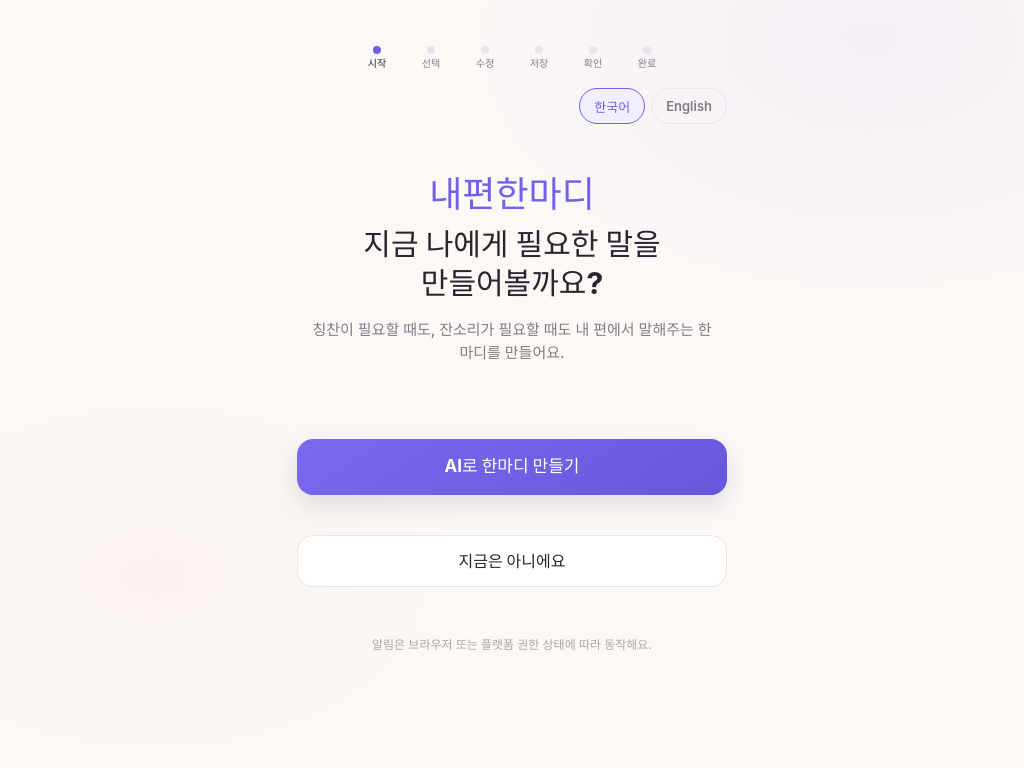
칭찬해줘 v0.4 home + check-in flow › lets the user write a direct line without AI generation and blocks unsafe direct copy
Click the button "AI로 한마디 만들기": x=512, y=467 297,439 -> 727,495
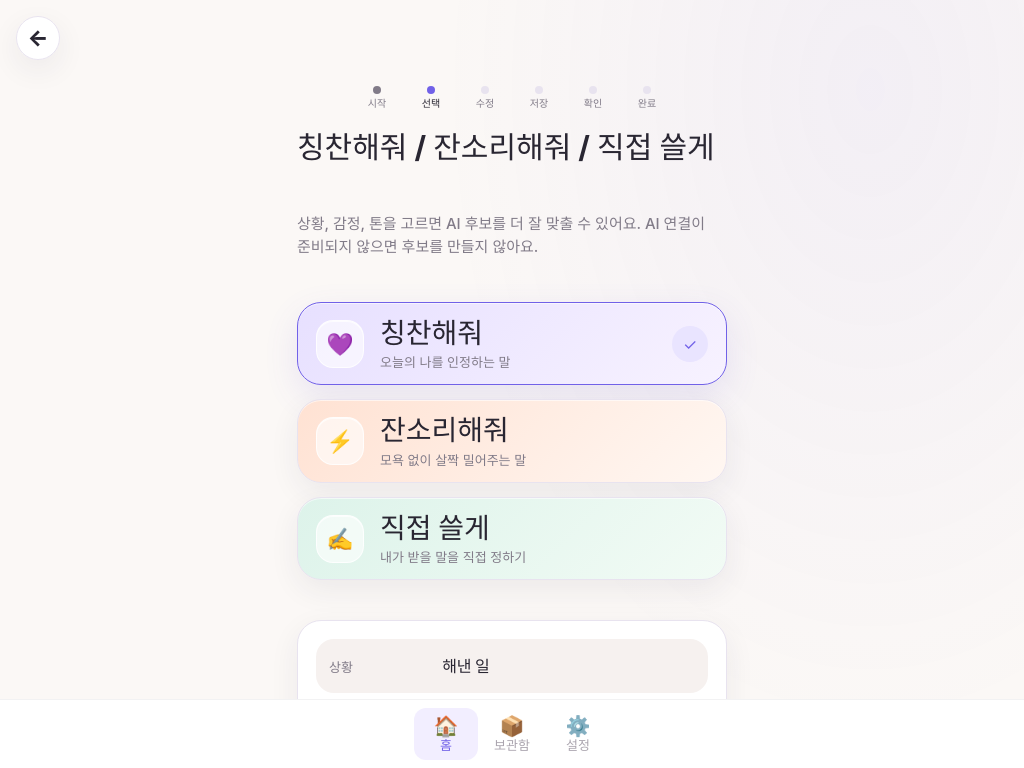
Click the button "✍ 직접 쓸게 내가 받을 말을 직접 정하기": x=340, y=539 297,497 -> 727,580
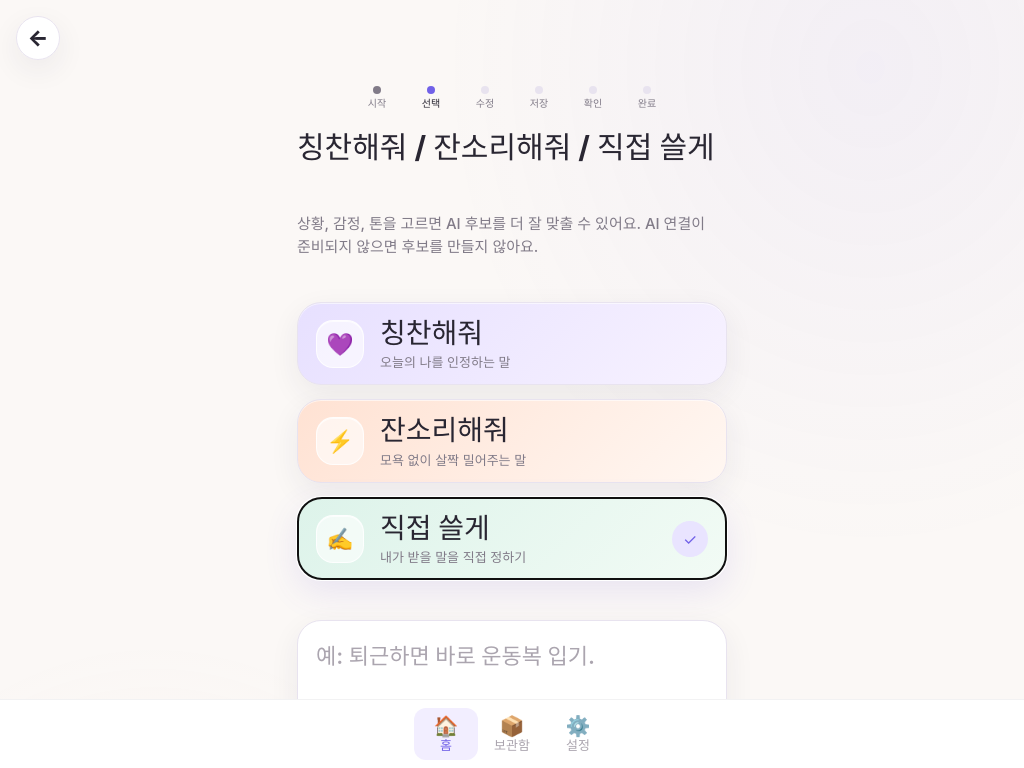
In the text box named "직접 받을 문장을 적어주세요": x=512, y=679 316,639 -> 708,719, type "퇴근하면 바로 운동복 입기."
(page scrolled)
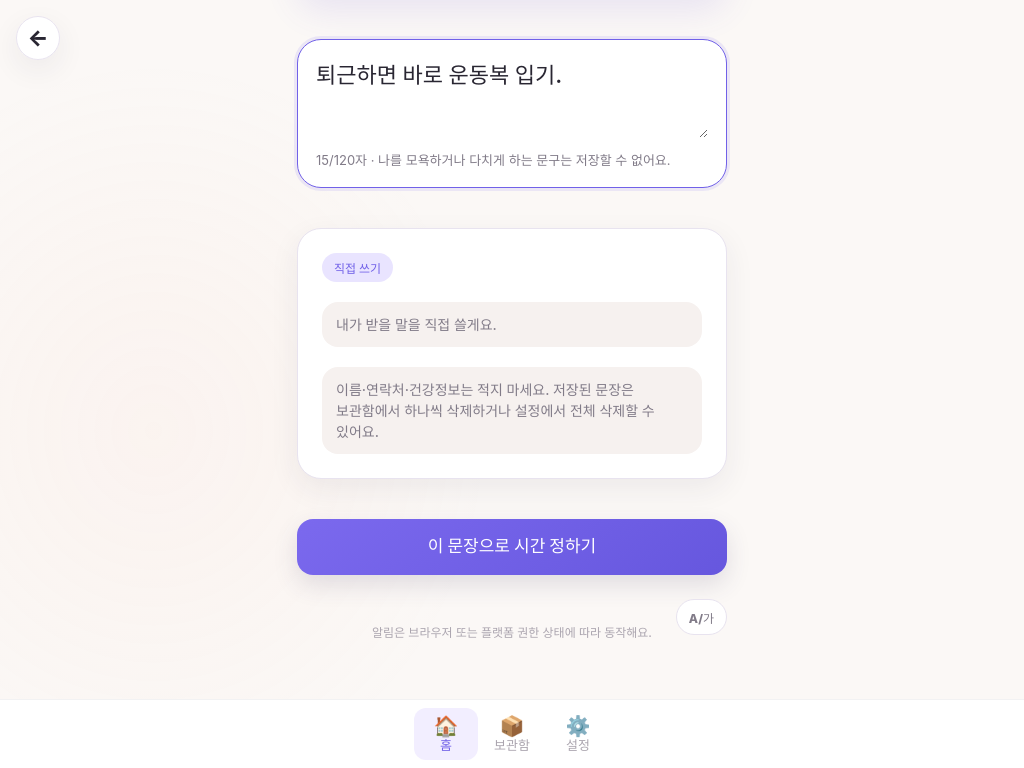
Click the button "이 문장으로 시간 정하기": x=512, y=547 297,519 -> 727,575
(page scrolled)
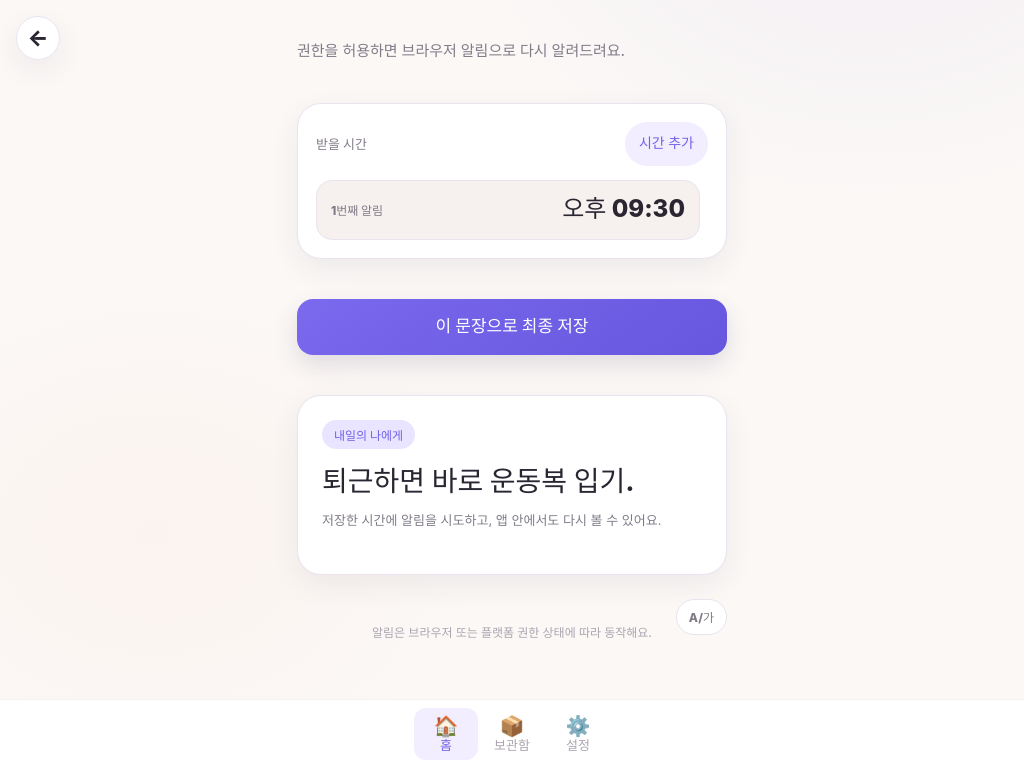
Click the button named "뒤로": x=38, y=38 16,16 -> 60,60
(page scrolled)
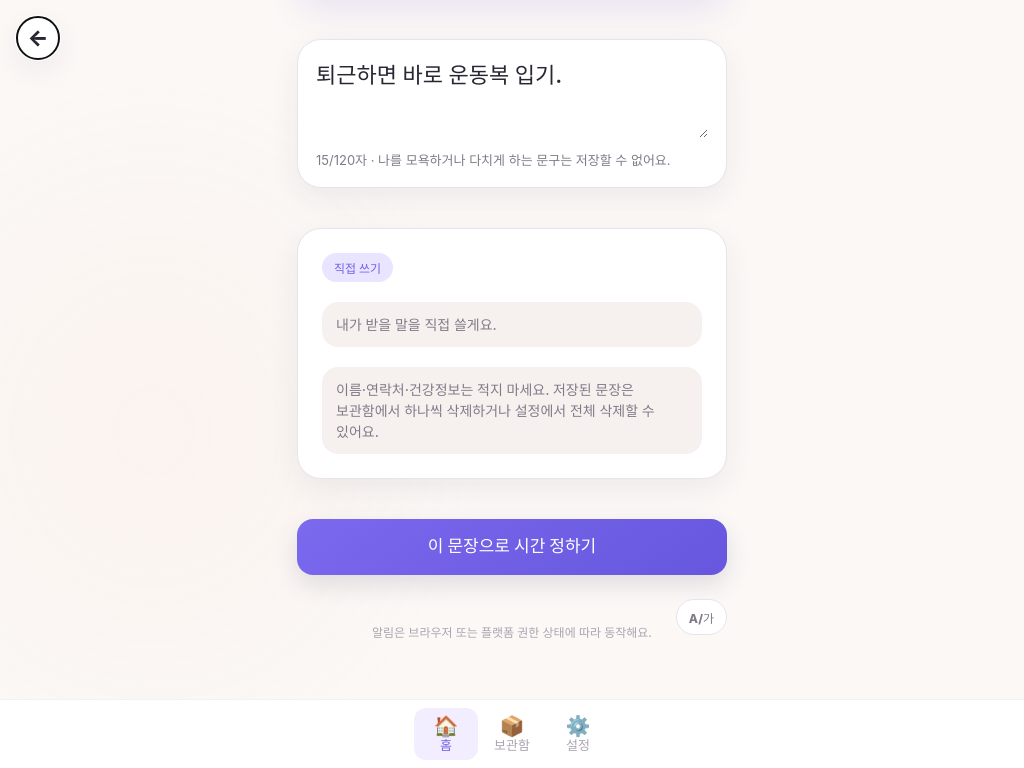
Replace the text in the text box named "직접 받을 문장을 적어주세요" with "한심하게 굴지 마": x=512, y=98 316,58 -> 708,138
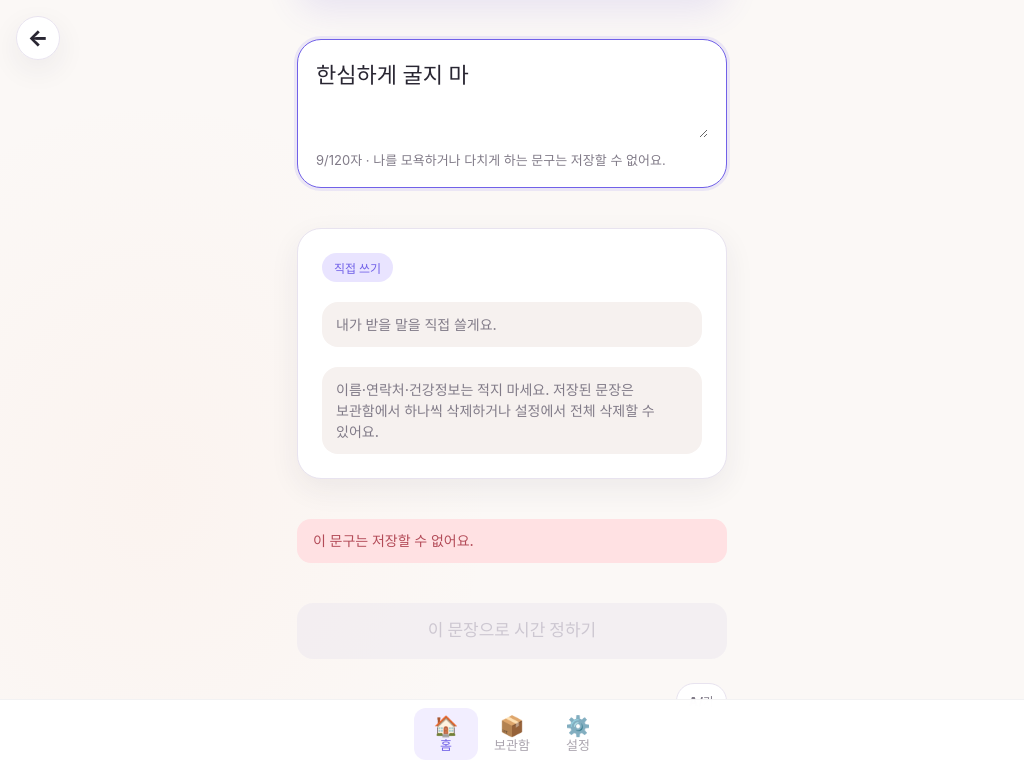
Expected: the button "이 문장으로 시간 정하기" is disabled, 297,603 -> 727,659
Expected: the text "이 문구는 저장할 수 없어요." is shown, 297,519 -> 727,563
